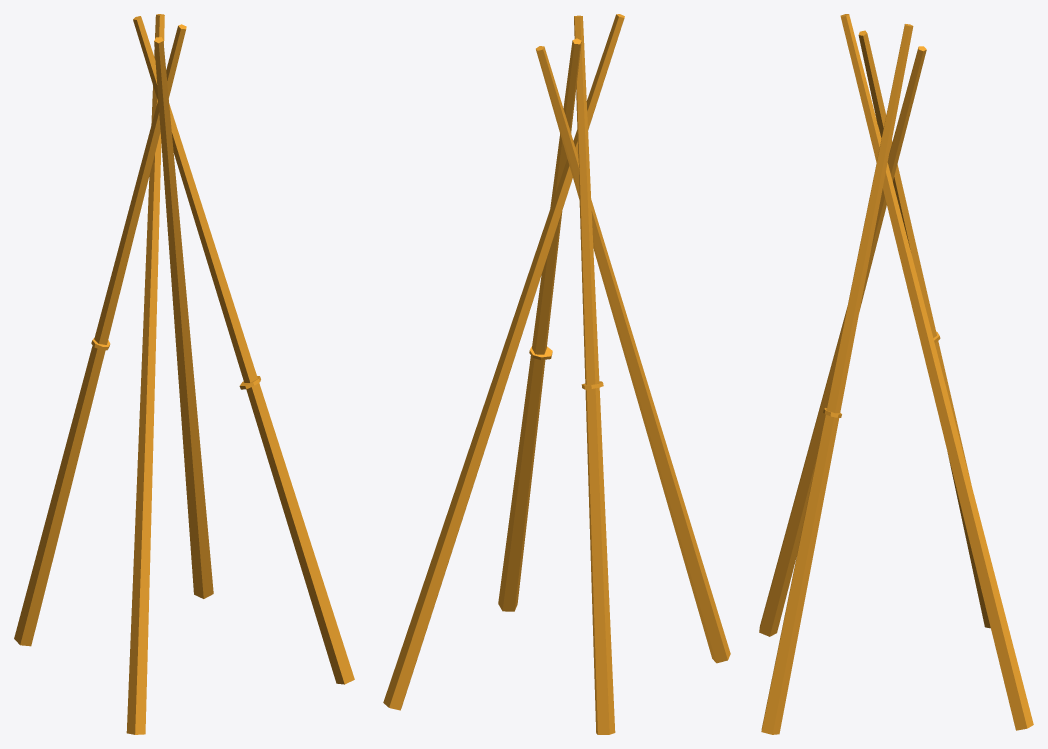
File: SM_Tomato_Stakes_B.fbx
3 renders of one model, left to right at view 1: azimuth 30°, elevation 25°; view 2: azimuth 150°, elevation 25°; view 3: azimuth 270°, elevation 25°, orthographic.
Parts seen in each view (by area): view 1: tomato-stakes-b; view 2: tomato-stakes-b; view 3: tomato-stakes-b.
Boxes of the visible parts, box(x1,y1,x2,y2) form: tomato-stakes-b: box(14, 14, 354, 734); tomato-stakes-b: box(383, 14, 730, 734); tomato-stakes-b: box(759, 14, 1033, 734).
Bounding box in the file's own units: 1.05 × 2.89 × 1.11.
